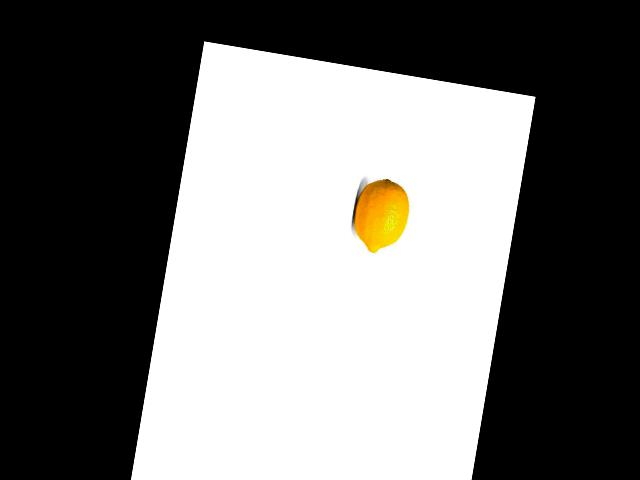lemon: (348, 171, 412, 259)
